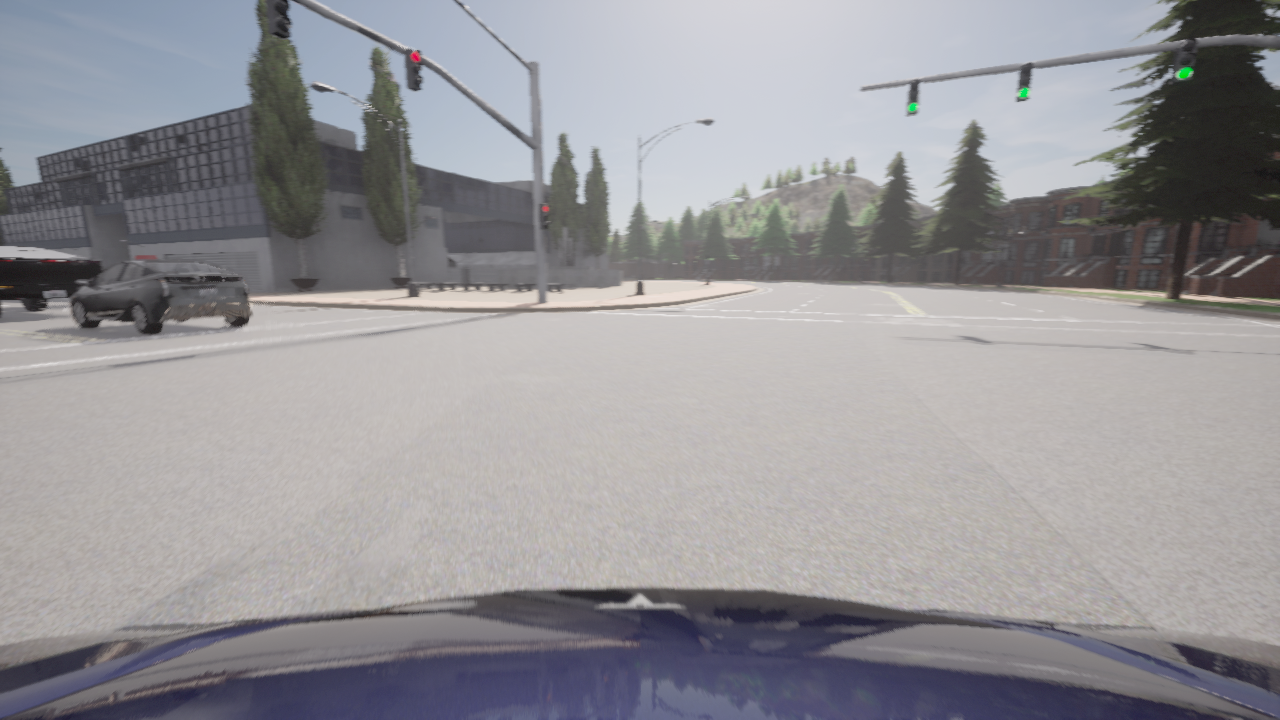cyclist: (0, 588, 1279, 719), (70, 260, 251, 335)
